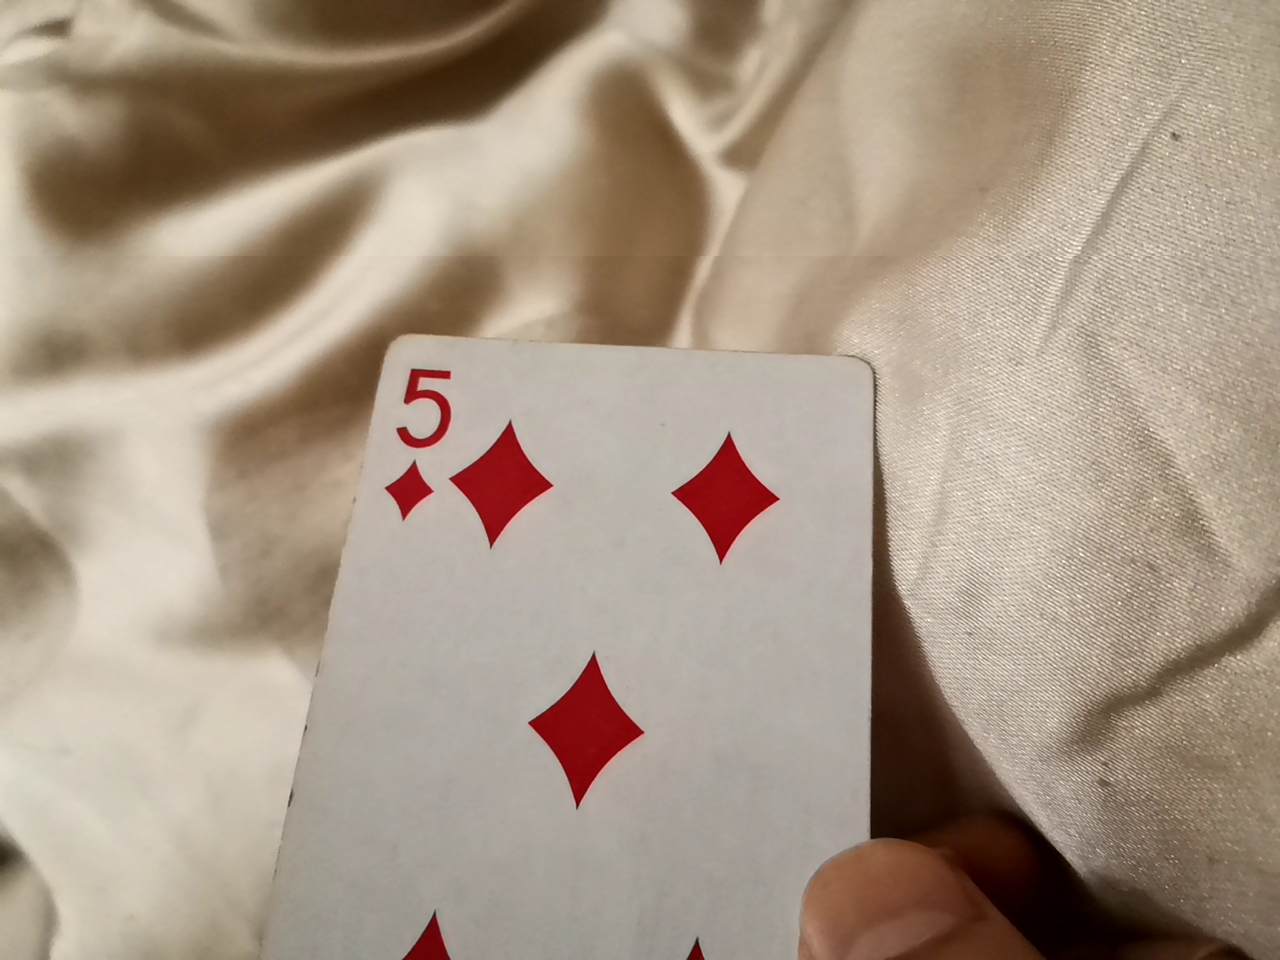fk 5: (307, 308, 900, 960)
